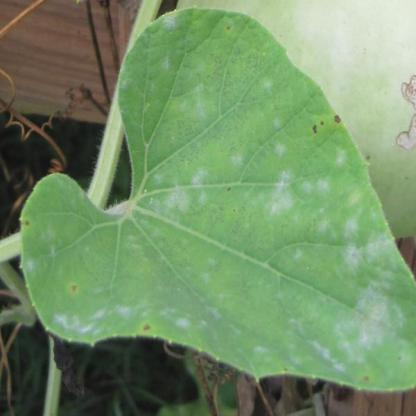squash powdery mildew leaf: (15, 6, 415, 398)
